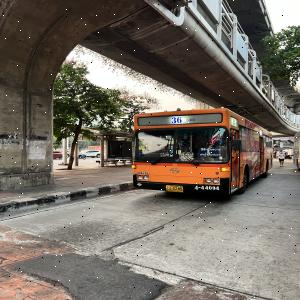BMTA-bus: (131, 108, 273, 197)
Bus Line Number: (167, 116, 197, 124)
Bus Side Number: (193, 185, 220, 191)
Destination Sign: (198, 148, 222, 157)
